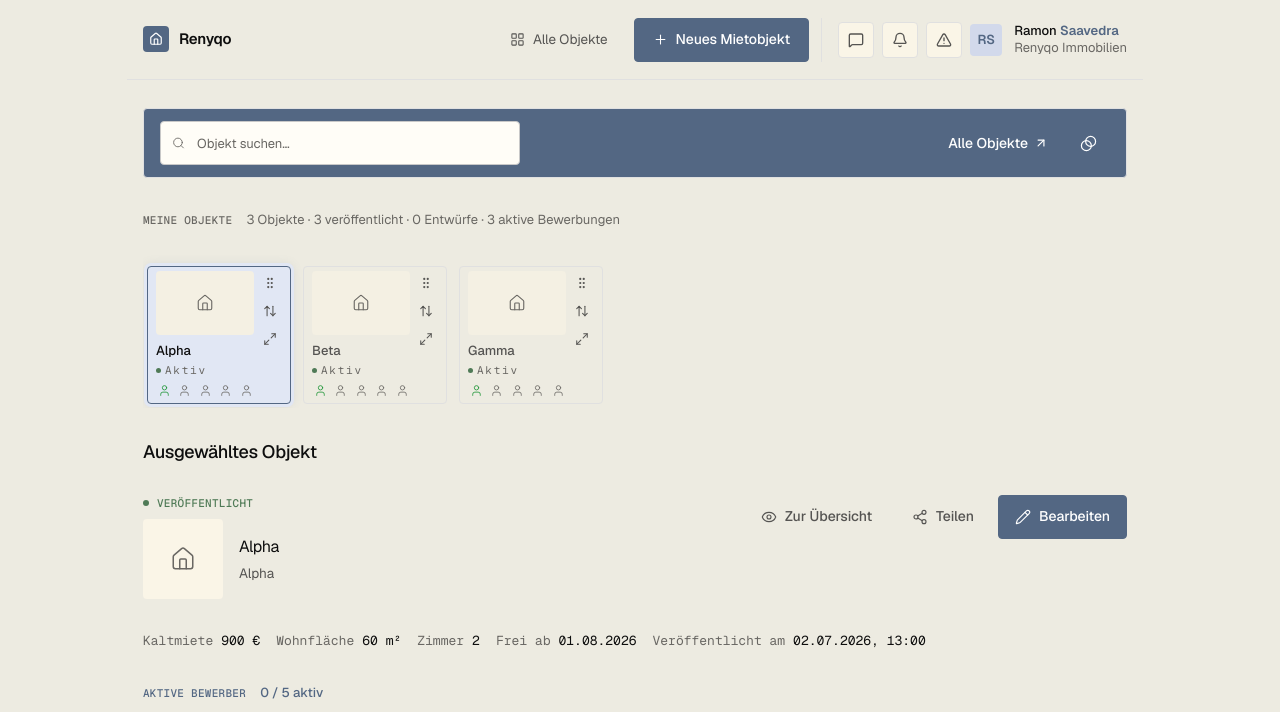
Scenario: DashboardView › keeps the saved order and reports a refresh error when the refetch fails
The image size is (1280, 712).
Check: the text "Saavedra" is shown, box [1060,23,1119,39]
What coordinates should you click on to do the following:
click the button named "Position von Alpha ändern"
I would click on:
 (270, 310)
Its box is [258,298,282,322].
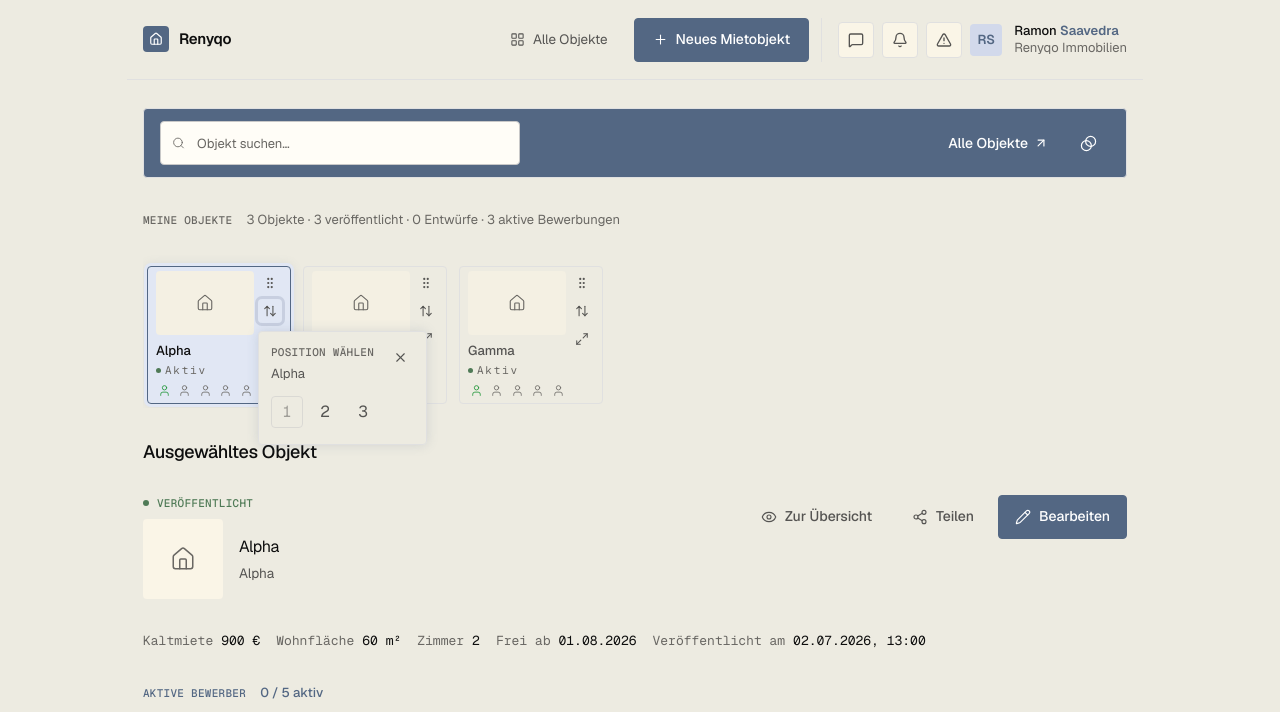
What coordinates should you click on to do the following:
click the button named "Auf Position 3 verschieben"
I would click on:
 (363, 412)
Its box is [347,396,379,428].
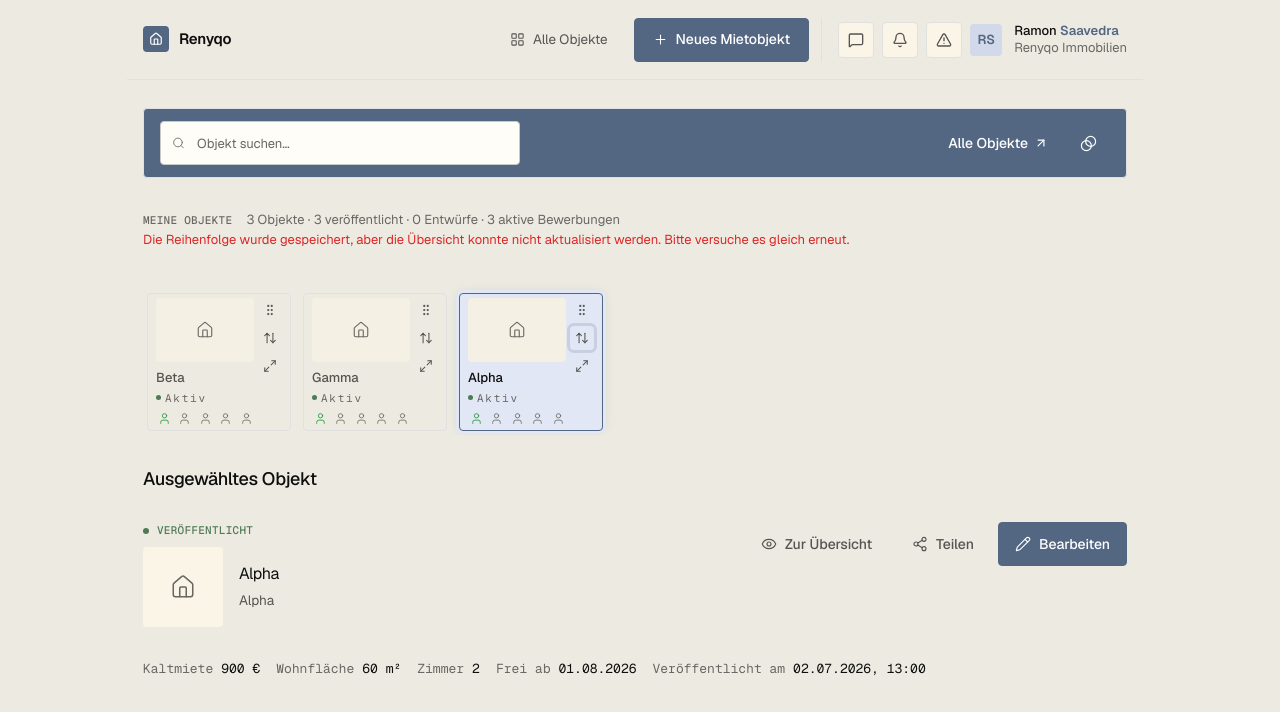
Check: the message shows "Die Reihenfolge wurde gespeichert", box [143,230,850,248]
